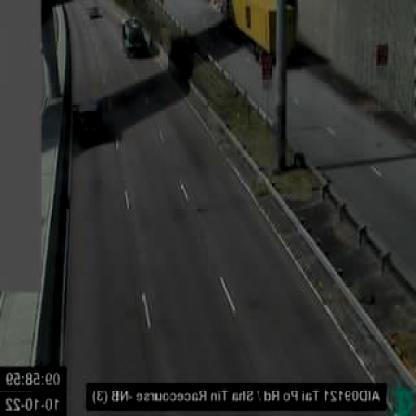Car: (121, 15, 153, 55), (91, 3, 102, 17)
Truck: (220, 0, 292, 62)
